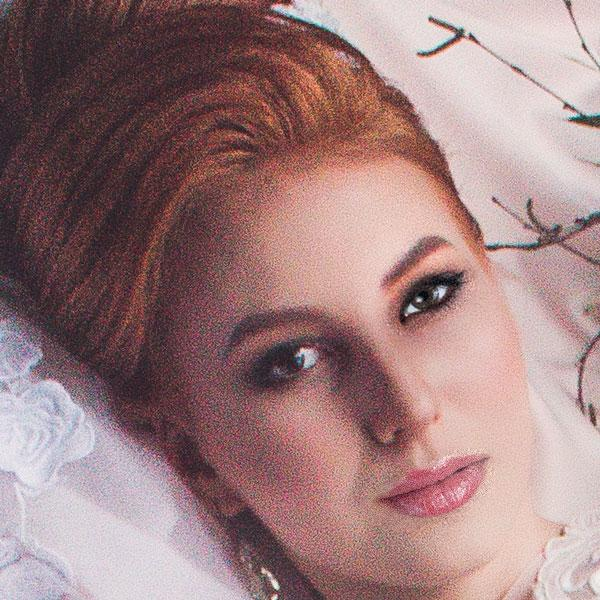Eyes: (253, 328, 339, 391), (394, 261, 472, 328)
